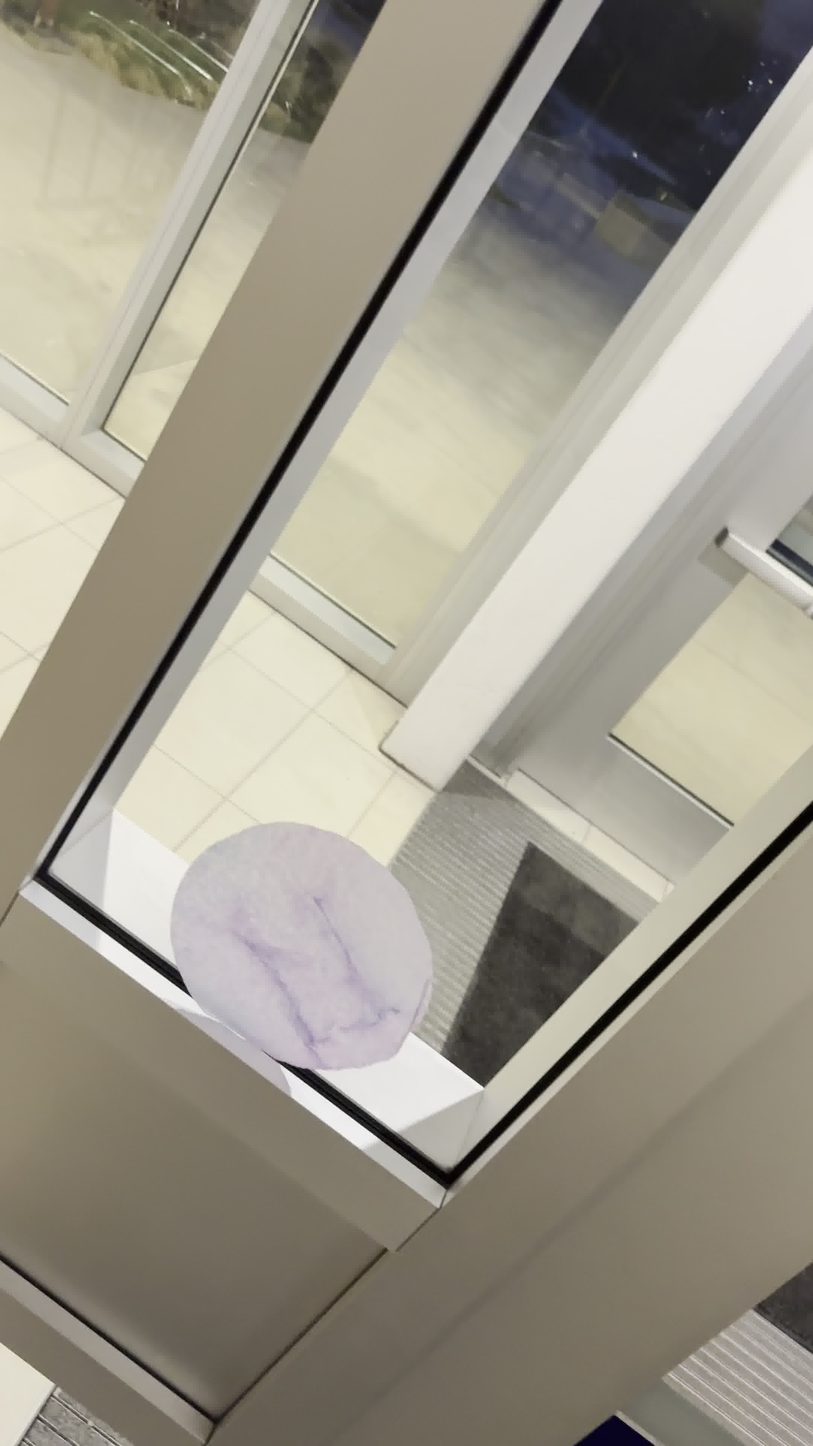Target: (162, 818, 446, 1077)
